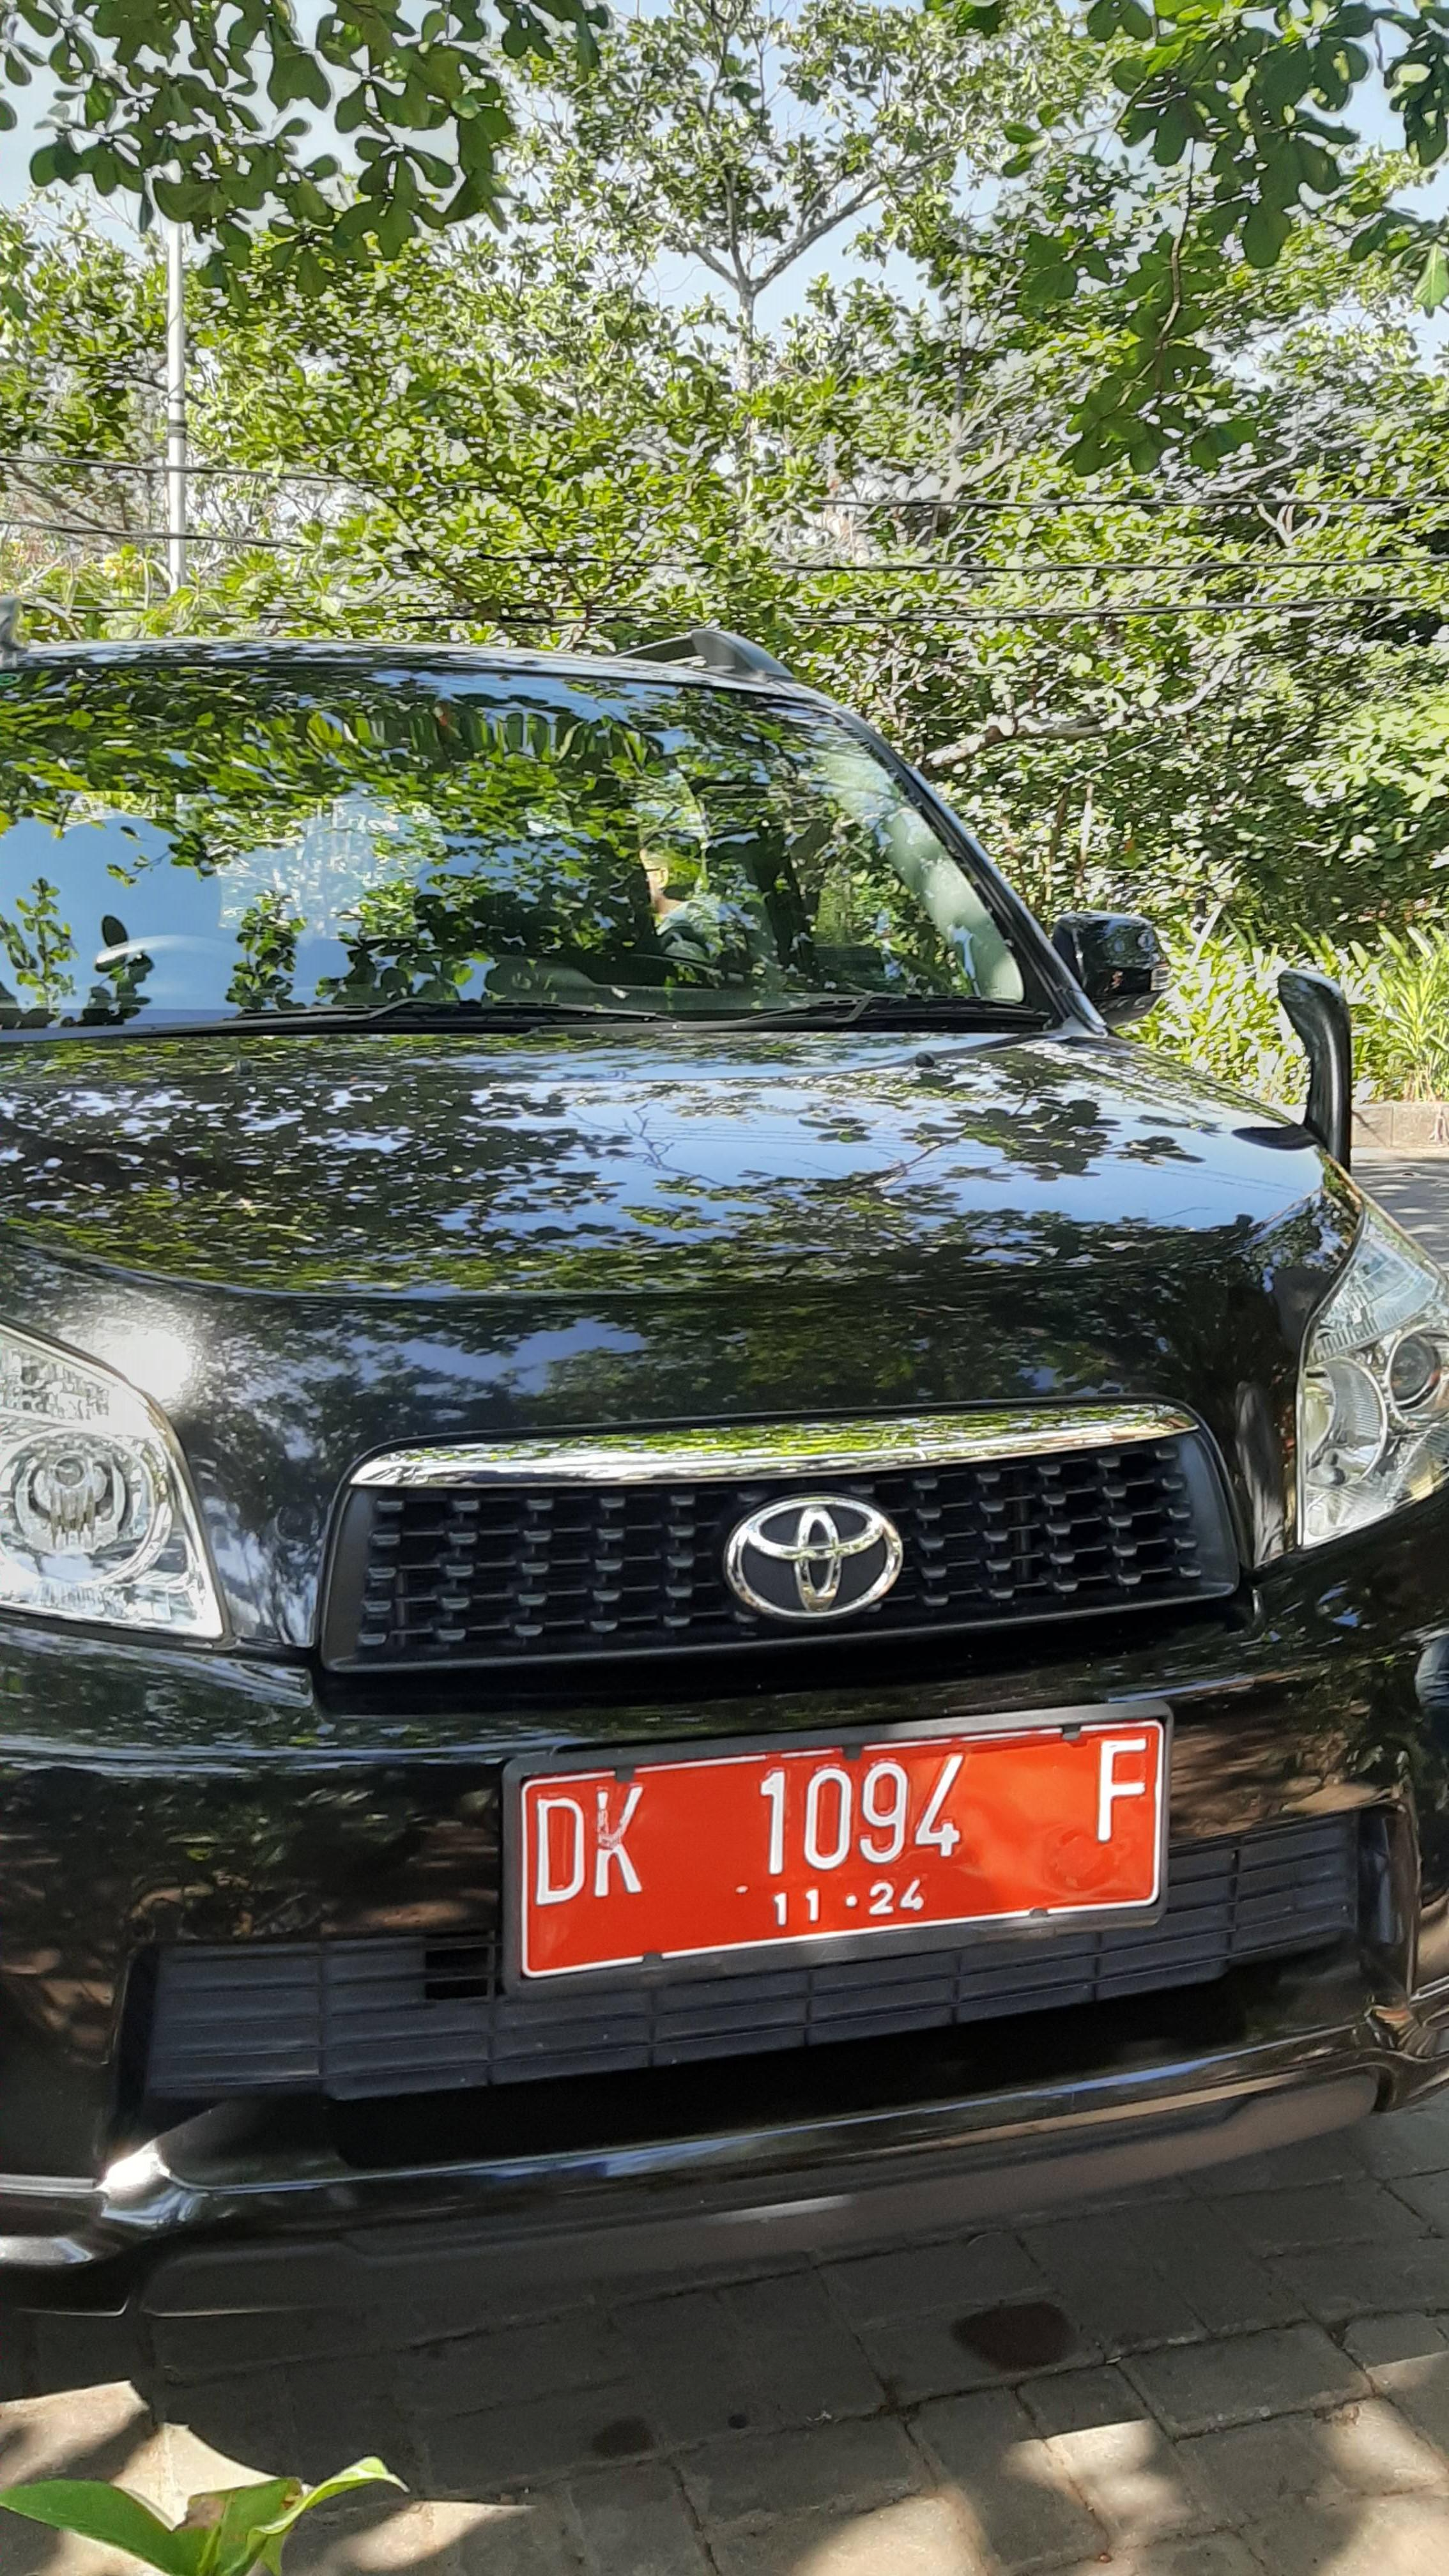plate: (516, 1718, 1164, 1984)
